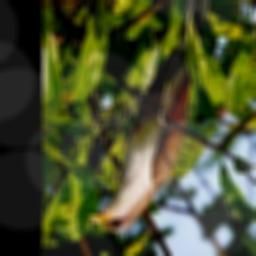Cuckoo: (88, 0, 213, 233)
